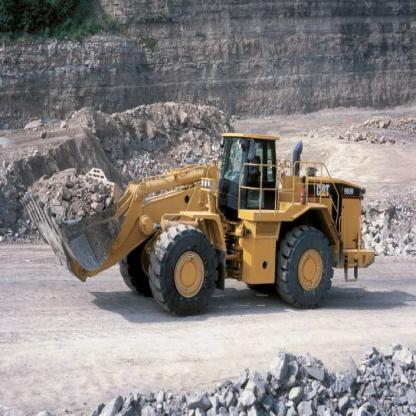bull_dozer/loader/grader: (13, 123, 382, 323)
